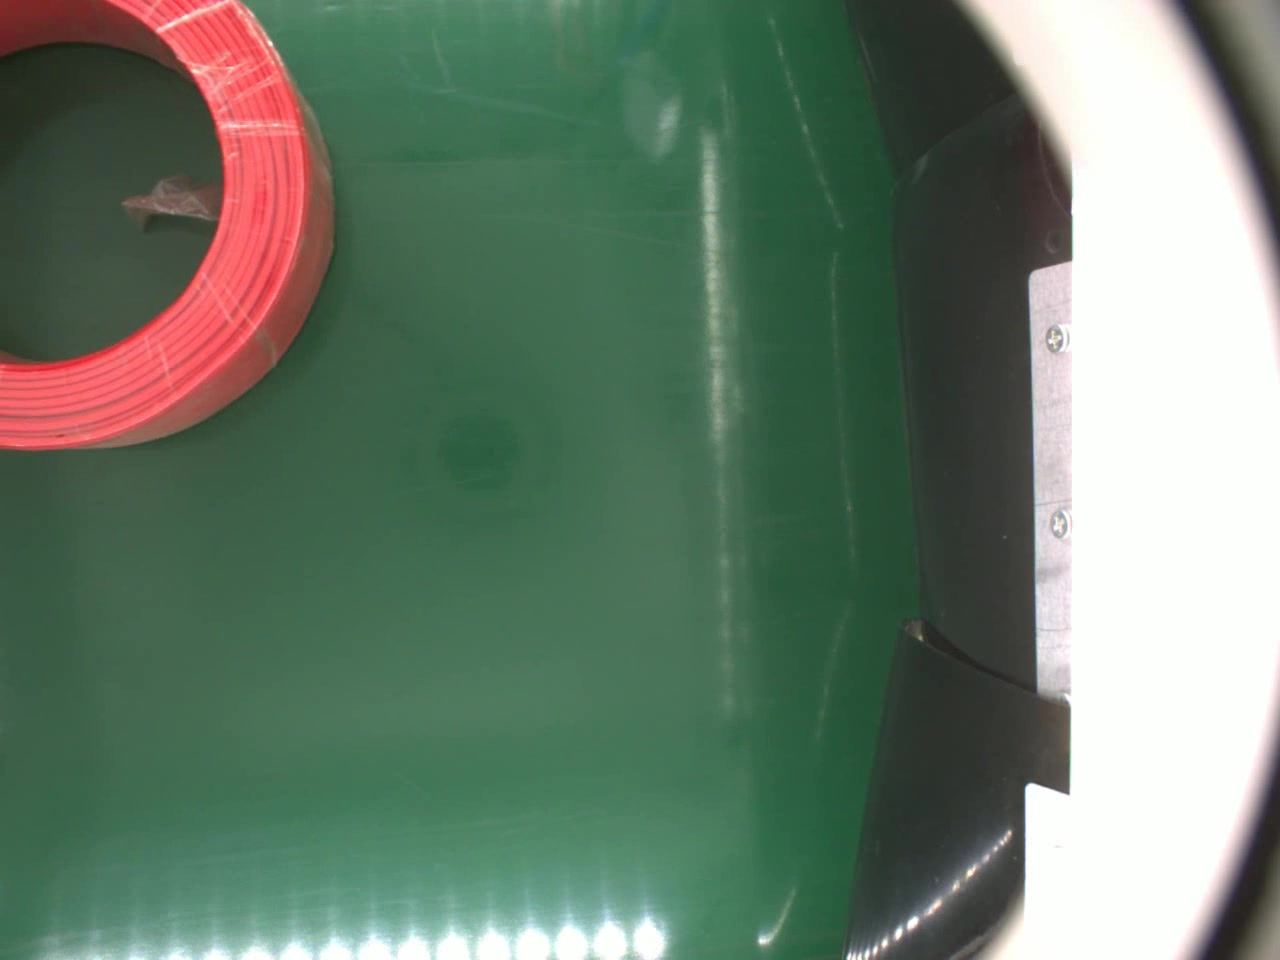red: (0, 0, 343, 460)
